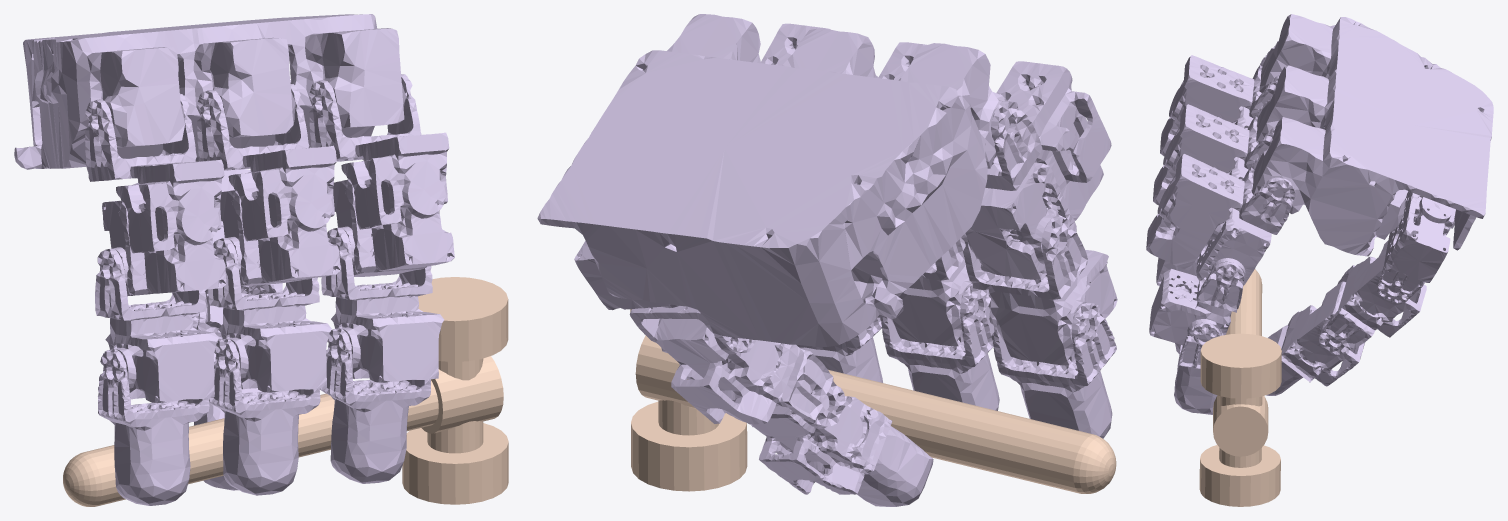
File: 0ce3ae101e2942-closed.glb
The picture shows the model from 3 angles, left to right: view 1: azimuth 30°, elevation 25°; view 2: azimuth 150°, elevation 25°; view 3: azimuth 270°, elevation 25°; orthographic projection. The views are drawn at different scales.
Parts seen in each view (by area): view 1: LEAP_hand, world; view 2: LEAP_hand, world; view 3: LEAP_hand, world.
Boxes of the visible parts, x1,y1,x2,y2 form: LEAP_hand: (14, 14, 454, 505); world: (63, 277, 508, 506); LEAP_hand: (537, 14, 1117, 506); world: (630, 309, 1116, 493); LEAP_hand: (1146, 14, 1493, 414); world: (1199, 269, 1281, 506).
Bounding box in the file's own units: 0.179 × 0.189 × 0.163.
